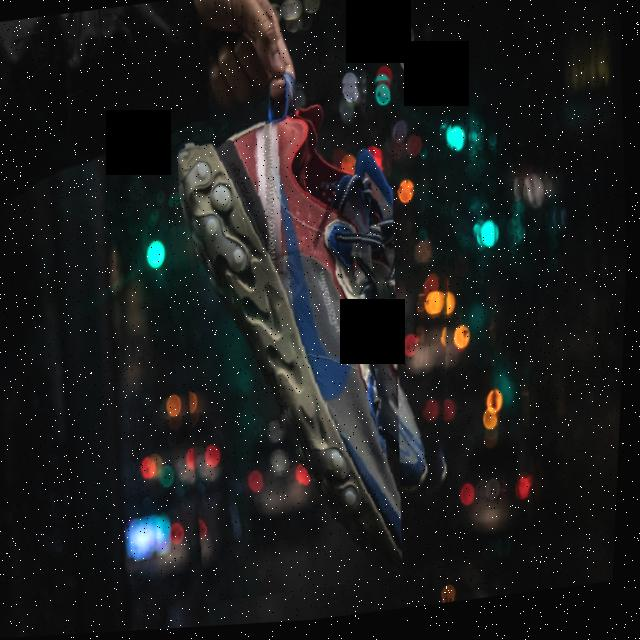shoe: (148, 72, 426, 610), (321, 101, 481, 509)
